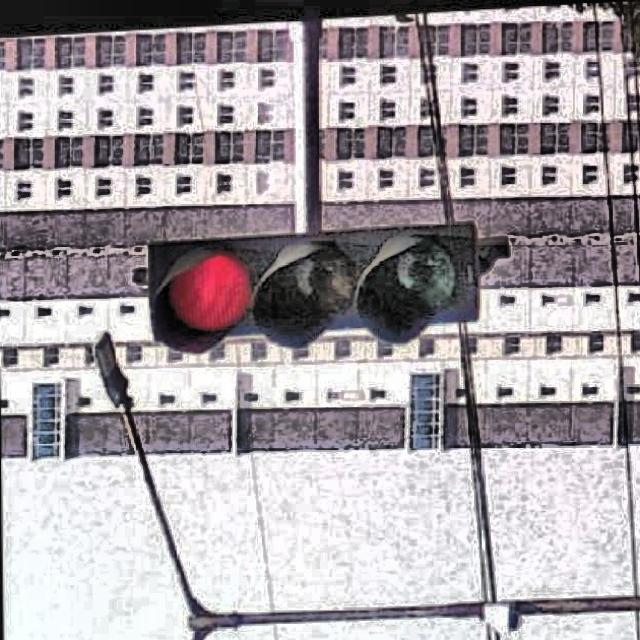red: (130, 216, 483, 357)
